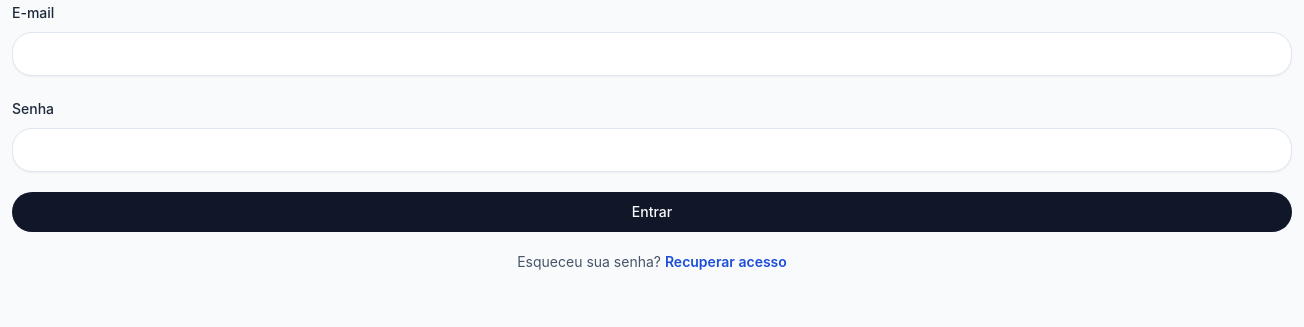
LoginForm › deve validar campos obrigatórios
Click the button "Entrar": (652,212) x1=12 y1=192 x2=1292 y2=232
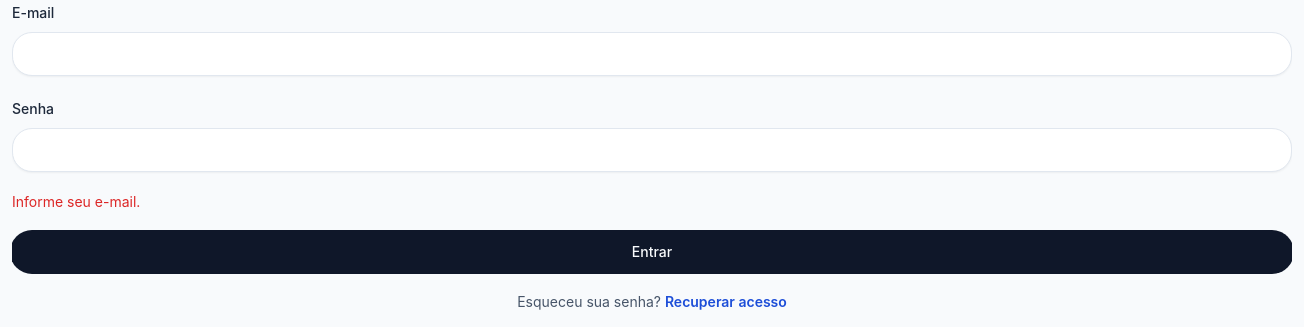
Expected: the text "Informe seu e-mail." is shown, x1=12 y1=193 x2=140 y2=210
